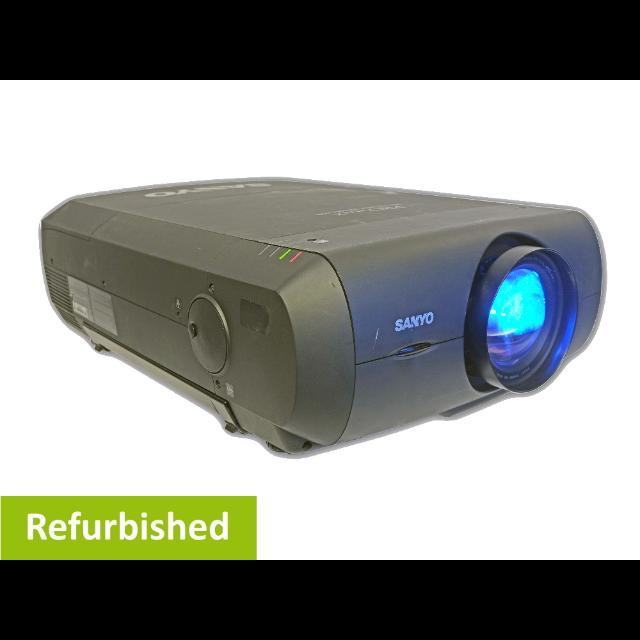Projector: (41, 164, 614, 468)
